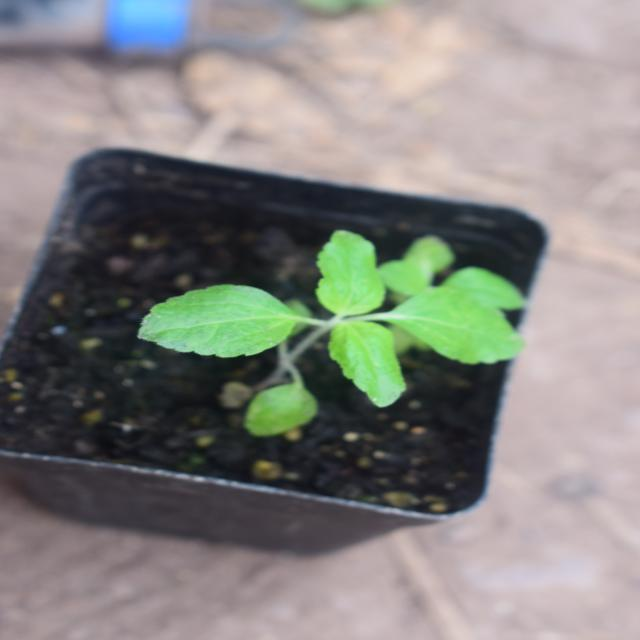billygoat_weed: (221, 106, 386, 494)
